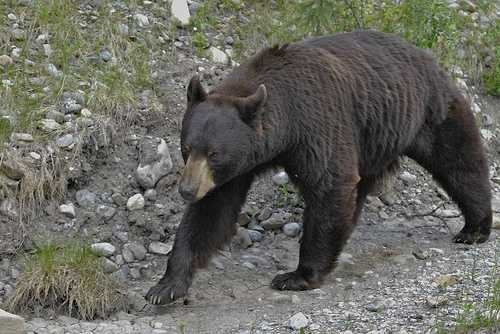bear: (162, 75, 290, 203)
